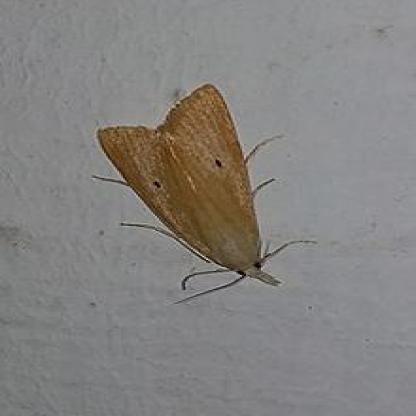stem-borer: (86, 82, 300, 301)
